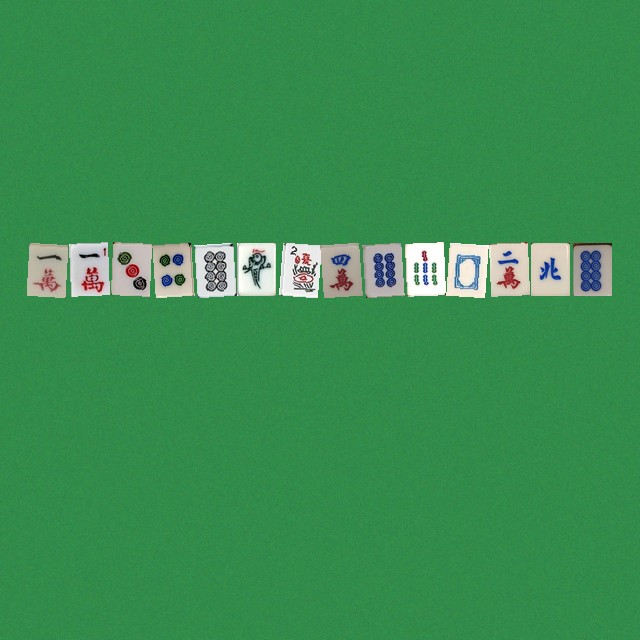tile: (26, 242, 65, 295), (68, 242, 107, 295), (110, 242, 149, 295), (152, 242, 191, 295), (194, 242, 233, 295), (236, 242, 275, 295), (278, 242, 317, 295), (320, 242, 359, 295), (362, 242, 401, 295), (404, 242, 443, 295), (446, 242, 485, 295), (488, 242, 527, 295), (530, 242, 569, 295), (572, 242, 611, 295)
